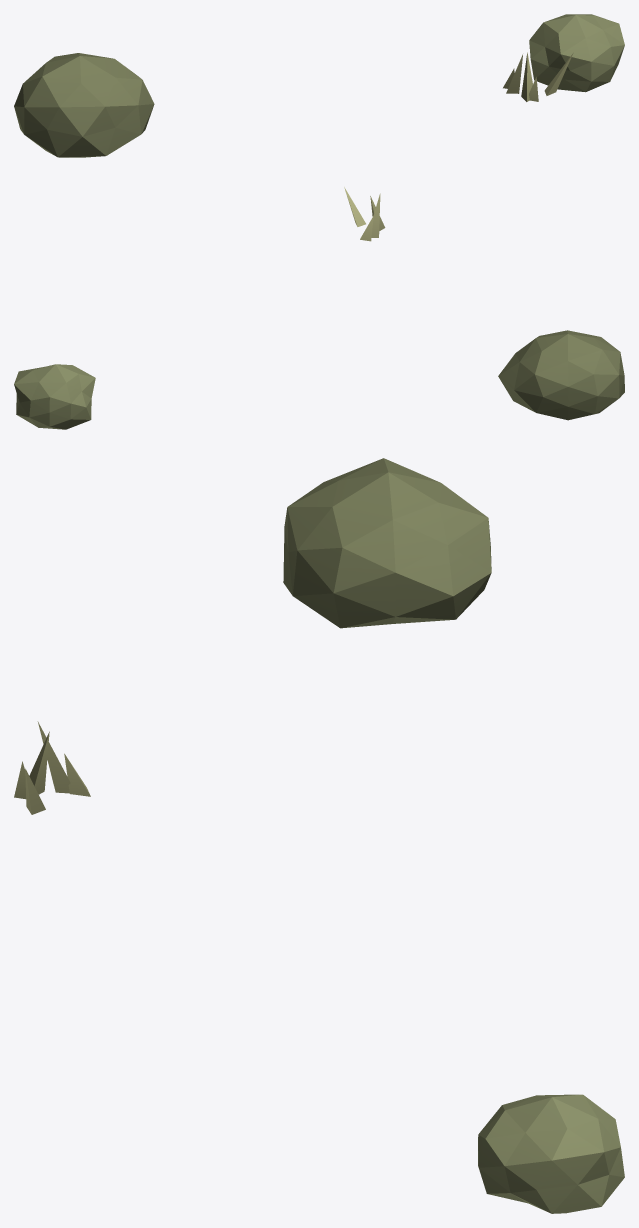
File: coast_land_scatter_c14_18.glb
The picture shows the model from 3 angles, top to bottom: view 1: azimuth 30°, elevation 25°; view 2: azimuth 150°, elevation 25°; view 3: azimuth 270°, elevation 25°; orthographic projection. The views are drawn at different scales.
Visible parts, largest first — view 1: coast_land_scatter_c14_18; view 2: coast_land_scatter_c14_18; view 3: coast_land_scatter_c14_18.
Boxes of the visible parts, left/top/right/bottom form: coast_land_scatter_c14_18: left=14, top=14, right=624, bottom=157; coast_land_scatter_c14_18: left=14, top=187, right=624, bottom=429; coast_land_scatter_c14_18: left=14, top=458, right=624, bottom=1213.
Size of the model in its own units: 14.69 by 4.45 by 7.62.
